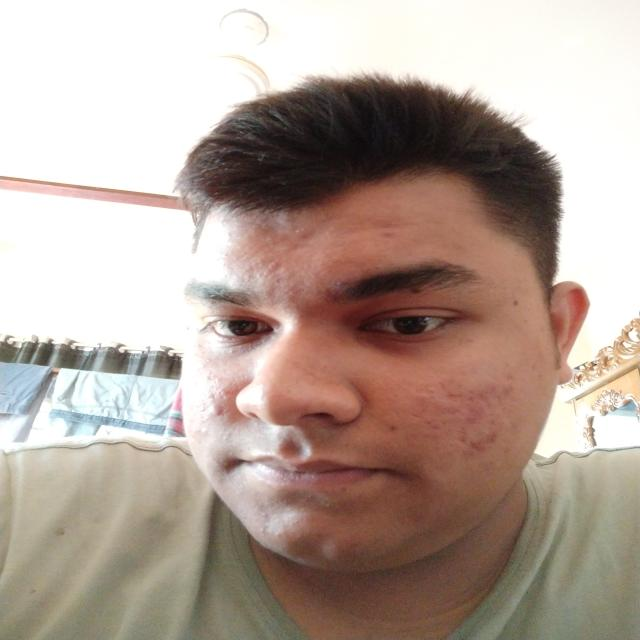Acne: (212, 232, 237, 261), (469, 433, 501, 451), (464, 402, 487, 426), (464, 389, 500, 402), (436, 382, 465, 398), (294, 227, 318, 241), (260, 259, 285, 272), (379, 230, 406, 242), (494, 385, 516, 399), (530, 364, 546, 383), (201, 364, 216, 383), (257, 508, 268, 532), (191, 427, 207, 442), (209, 403, 226, 417), (378, 218, 397, 230), (334, 541, 359, 550), (218, 387, 236, 398), (422, 419, 440, 430), (458, 428, 470, 442), (388, 422, 402, 433), (418, 388, 433, 397), (336, 485, 350, 492), (505, 372, 514, 381)
Englarged-Pores: (413, 394, 501, 420), (193, 372, 239, 421)
Eyebags: (354, 329, 454, 361), (199, 329, 284, 358)
Wrinkles: (336, 222, 417, 235), (350, 379, 372, 405)
